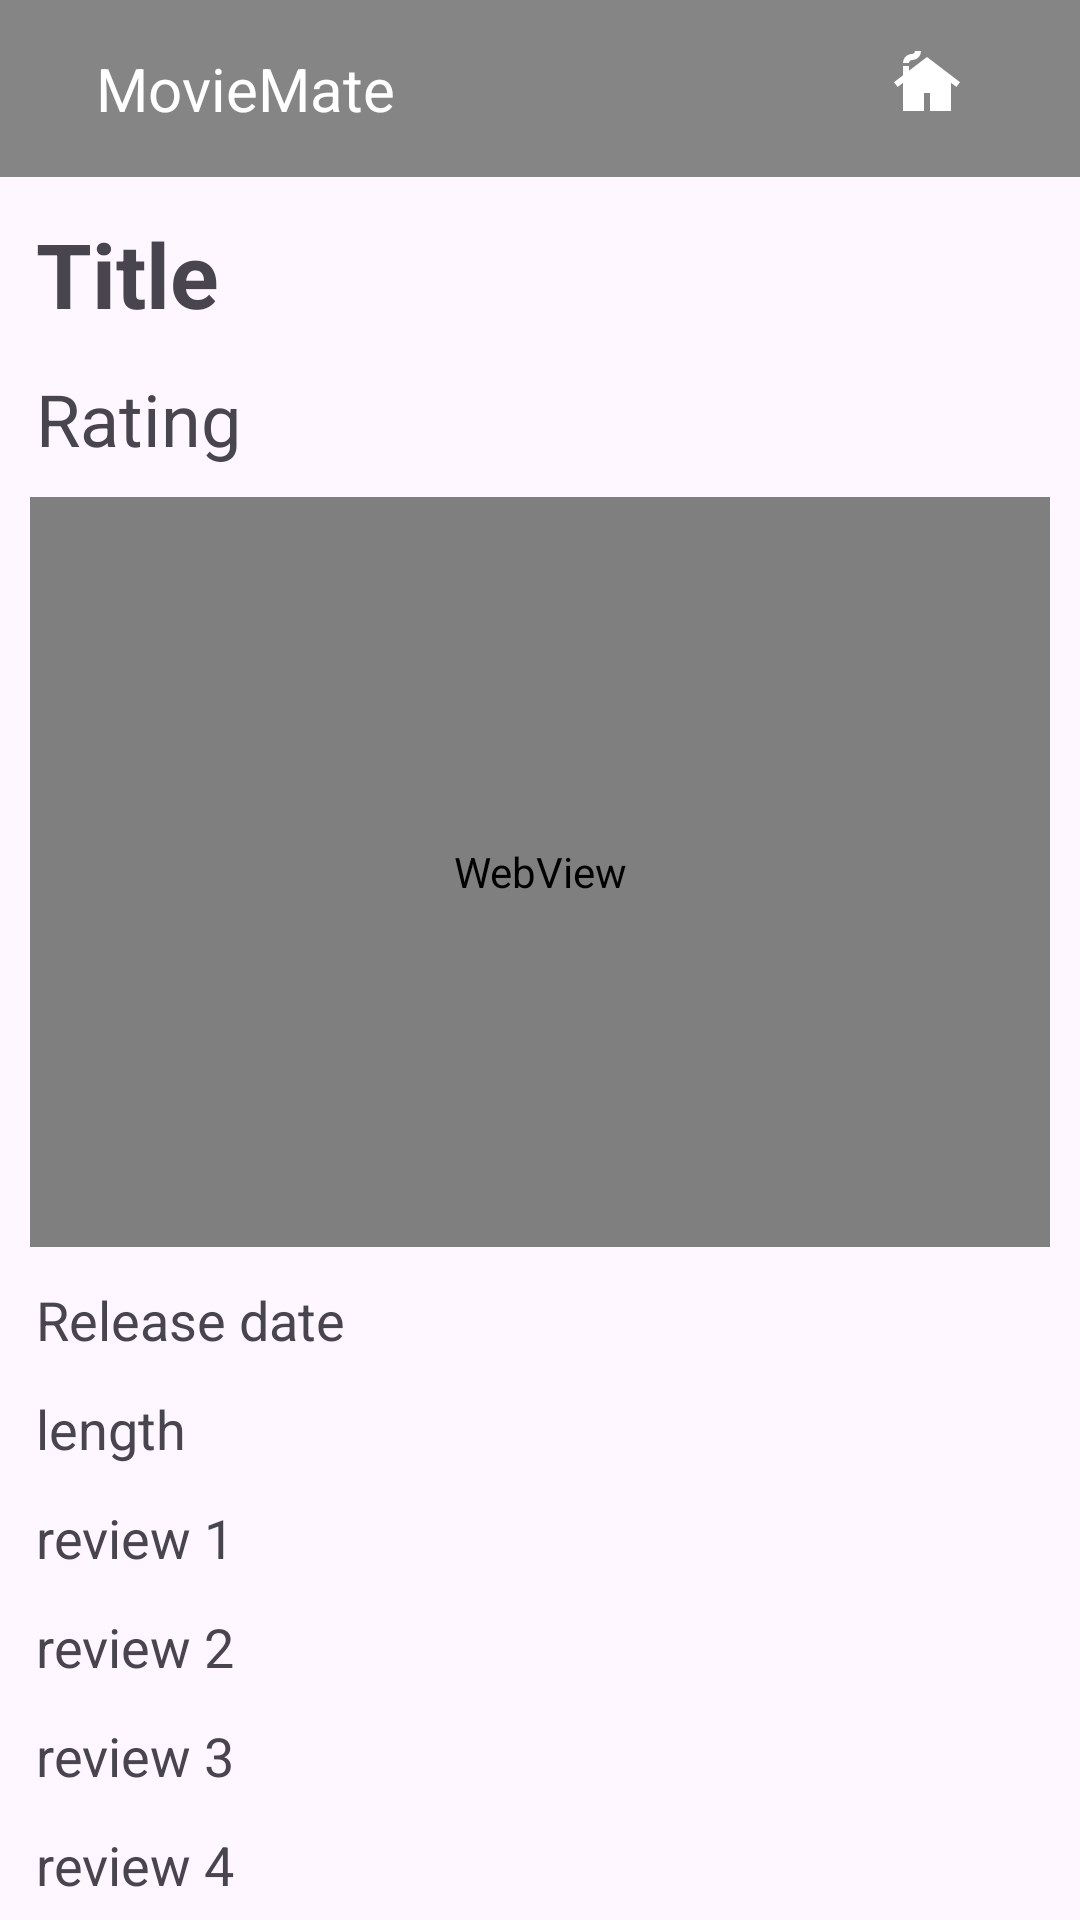

Point at icon controls on the screen. Image size 1080w x 1920h, points as (x=x, y=y).
cottage: (x=927, y=81)
